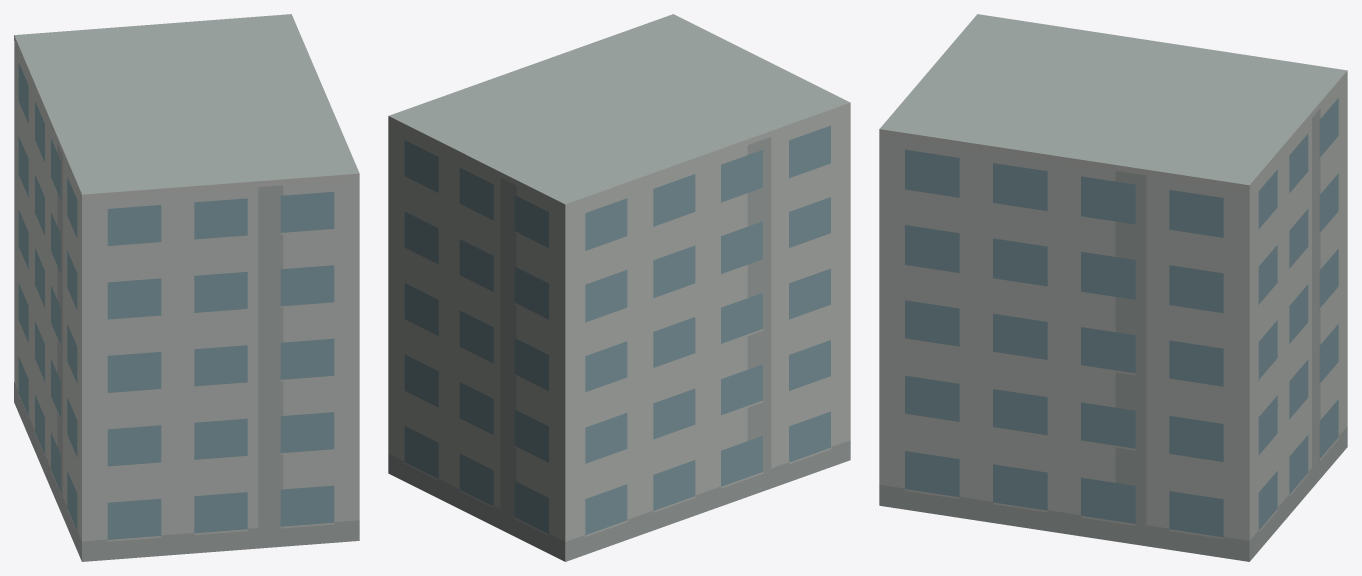
The model's file is residential-1fc427c3-34b7-430b-a151-254c611a14a6.glb.
The picture shows the model from 3 angles, left to right: view 1: azimuth 30°, elevation 25°; view 2: azimuth 150°, elevation 25°; view 3: azimuth 270°, elevation 25°; orthographic projection. The views are drawn at different scales.
Visible parts, largest first — view 1: residential-1fc427c3-34b7-430b-a151-254c611a14a6.tmp; view 2: residential-1fc427c3-34b7-430b-a151-254c611a14a6.tmp; view 3: residential-1fc427c3-34b7-430b-a151-254c611a14a6.tmp.
Boxes of the visible parts, x1,y1,x2,y2 form: residential-1fc427c3-34b7-430b-a151-254c611a14a6.tmp: (14, 14, 359, 561); residential-1fc427c3-34b7-430b-a151-254c611a14a6.tmp: (388, 14, 850, 561); residential-1fc427c3-34b7-430b-a151-254c611a14a6.tmp: (879, 14, 1347, 561).
Size of the model in its own units: 14.88 by 15.25 by 17.19.
